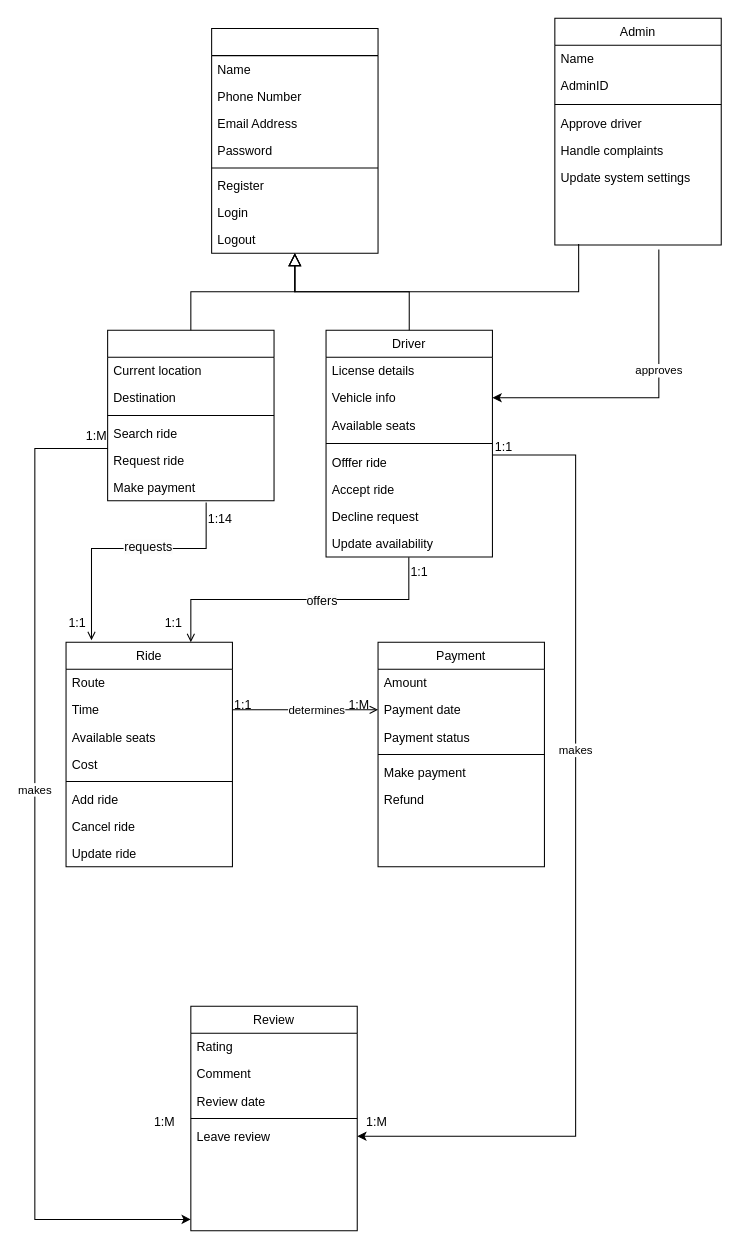
Image size: 739x1249. Some labels were removed from this diagram. The shapes that lost their labels are listed below. From the top down, each one's box as (x1, y1, x2, y2) in pixels, then its label:
(211, 28, 378, 253): User
(107, 329, 274, 501): Rider
